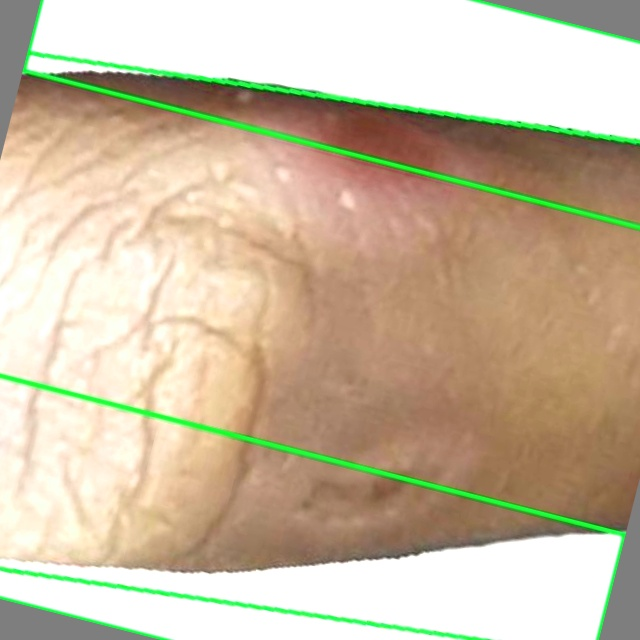Atopic Dermatitis: (0, 56, 639, 639), (0, 375, 624, 639), (23, 0, 639, 227)
